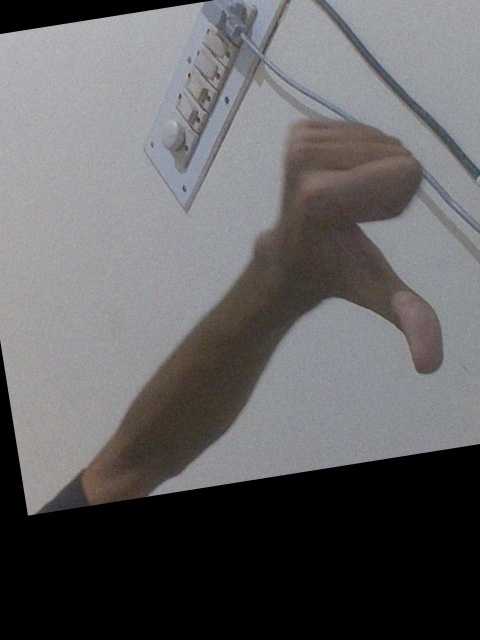hand: (236, 109, 463, 392)
